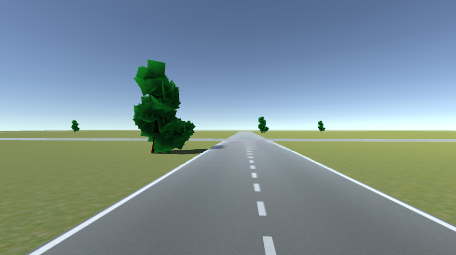tree: (130, 57, 197, 153), (257, 116, 270, 133), (317, 119, 326, 133), (71, 119, 79, 133)
